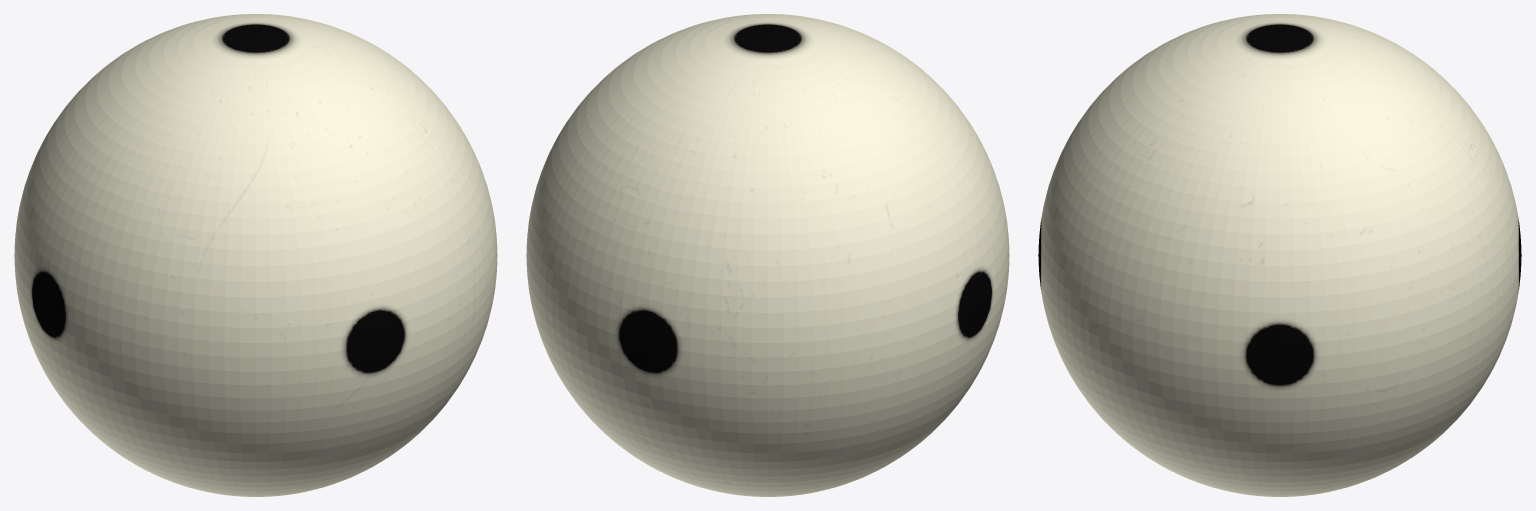
The model's file is cue_2.glb.
3 views of the same model, side by side, from view 1: azimuth 30°, elevation 25°; view 2: azimuth 150°, elevation 25°; view 3: azimuth 270°, elevation 25° (orthographic).
Parts seen in each view (by area): view 1: Sphere; view 2: Sphere; view 3: Sphere.
Part boxes in pixels (x1,y1,x2,y2): Sphere: (14,14,497,496); Sphere: (526,14,1009,496); Sphere: (1038,14,1521,496).
Size of the model in its own units: 0.0571 by 0.0571 by 0.0572.
Materials: 1 (1 with a texture image).
